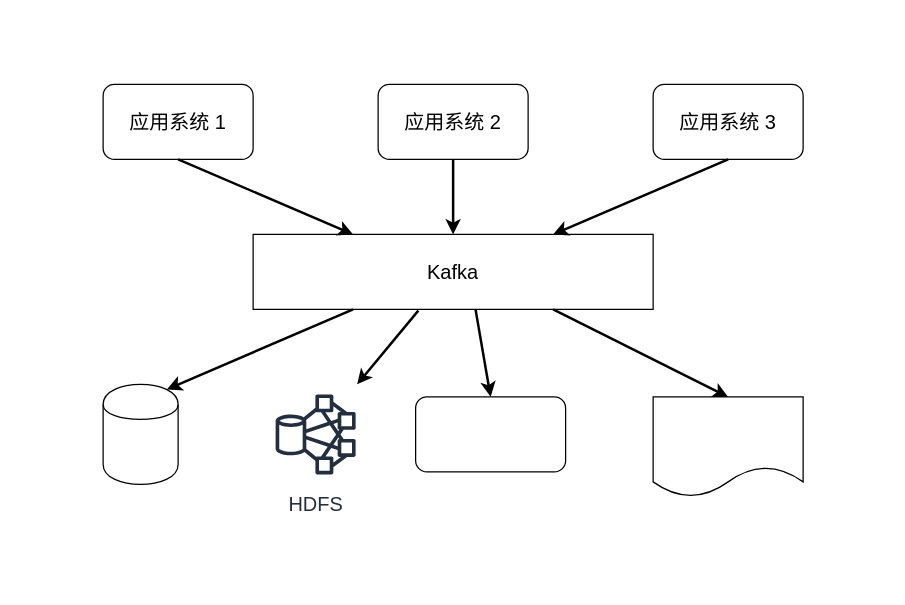
Some shapes in this 905 by 605 pixel diagram are drawn without their labels. The shapes that lost their labels are listed below. From the top down, each one's centre as x and y in pixels, then its label:
At point 140,433: "数据库".
At point 490,434: "应用系统 4".
At point 727,446: "Flink".
